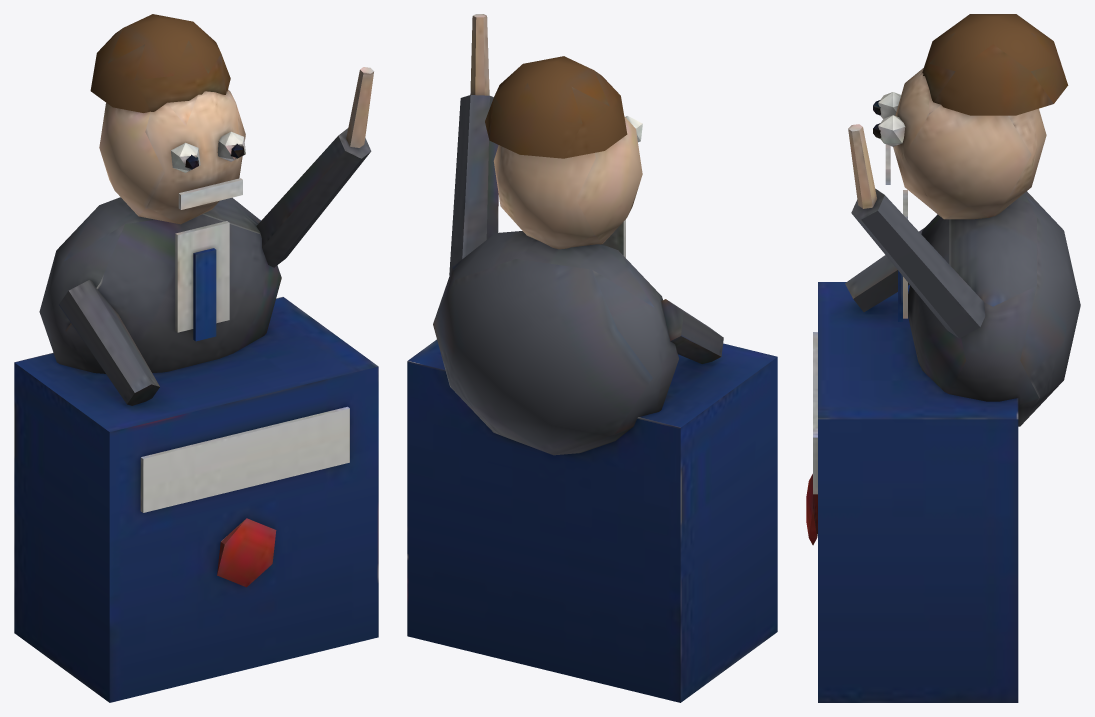
The model's file is rival_debate.glb.
3 renders of one model, left to right at view 1: azimuth 30°, elevation 25°; view 2: azimuth 150°, elevation 25°; view 3: azimuth 270°, elevation 25°, orthographic. The views are drawn at different scales.
Visible parts, largest first — view 1: rival_debate; view 2: rival_debate; view 3: rival_debate.
Boxes of the visible parts, <box> form: rival_debate: <box>14,14,378,702</box>; rival_debate: <box>407,14,777,702</box>; rival_debate: <box>806,14,1080,702</box>.
Size of the model in its own units: 1.37 by 2.72 by 1.1.
Materials: 1 (1 with a texture image).
